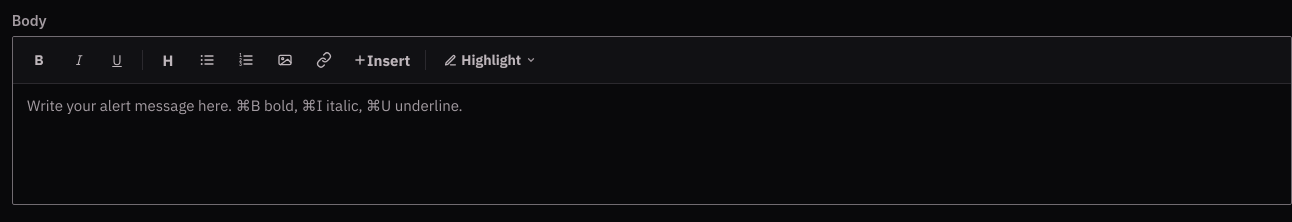
AlertBodyEditor › shows one tooltip for Underline with no native title
This screenshot has width=1292, height=222.
Hover over the button named "Underline".
mouse_move(117, 60)  # box [100,44,134,76]
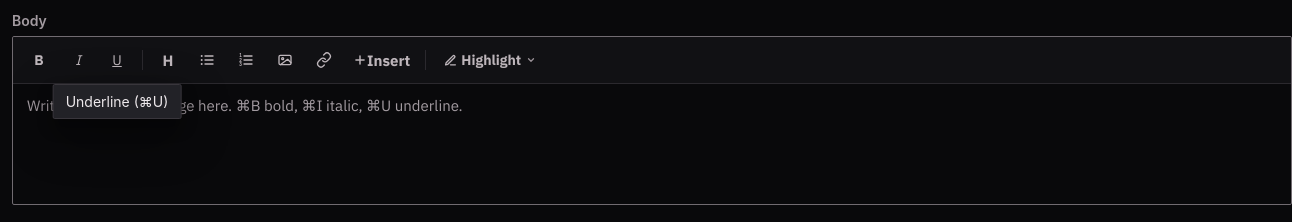
Now the tooltip "Underline (⌘U)" is shown, box [53,84,181,119]
